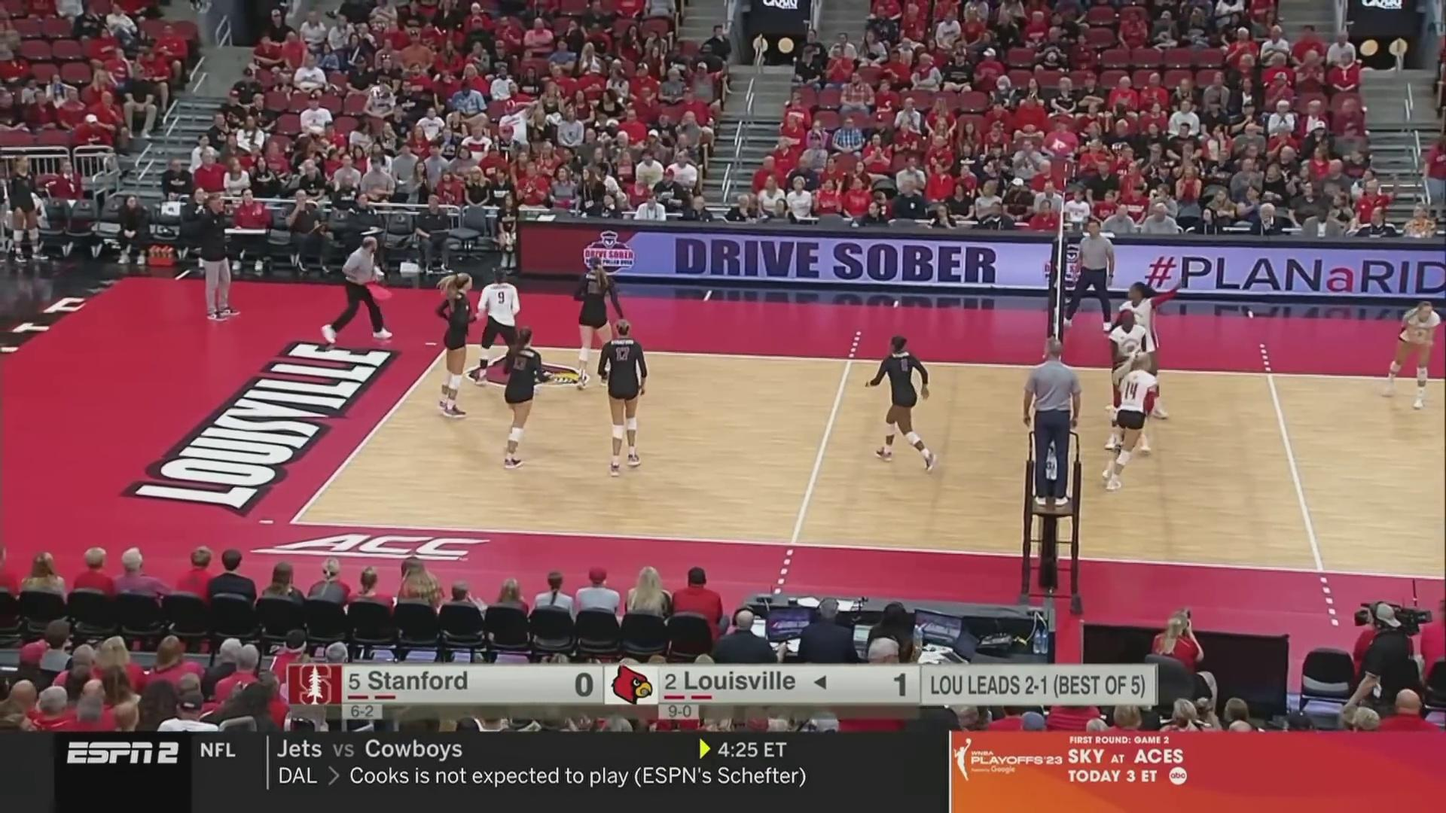player: (1107, 282, 1182, 419), (866, 337, 936, 471), (599, 321, 651, 472), (1104, 355, 1156, 492), (1109, 309, 1157, 453), (477, 269, 534, 387), (501, 326, 549, 466), (436, 272, 481, 419), (573, 261, 623, 389), (1386, 303, 1438, 409)
refree: (1023, 337, 1079, 506), (321, 237, 391, 344), (1057, 218, 1114, 332)
